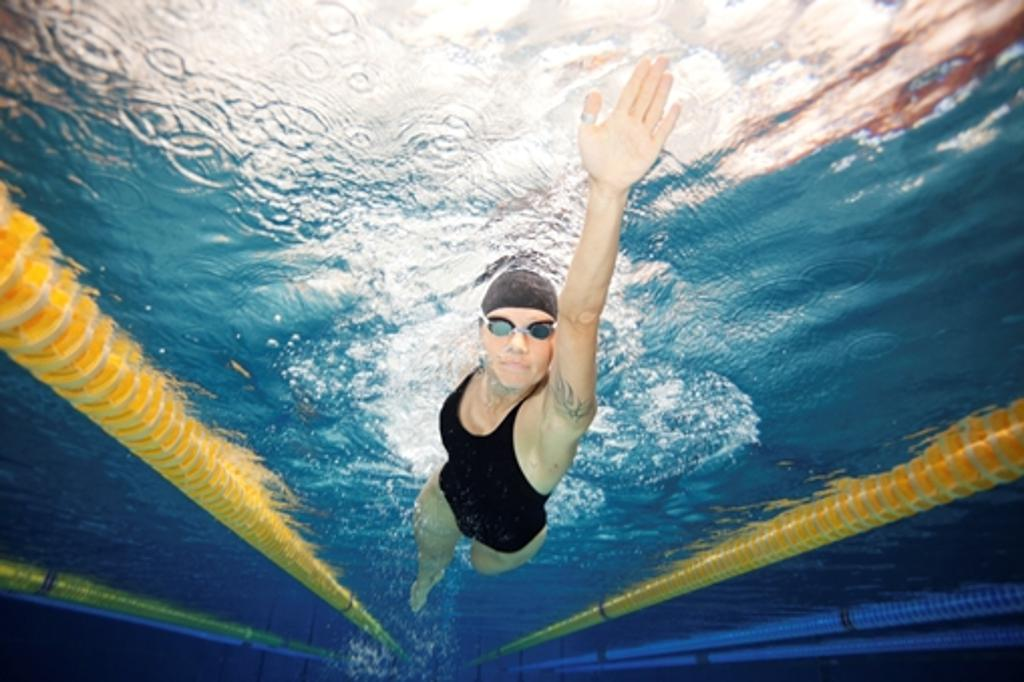face: (476, 300, 560, 392)
